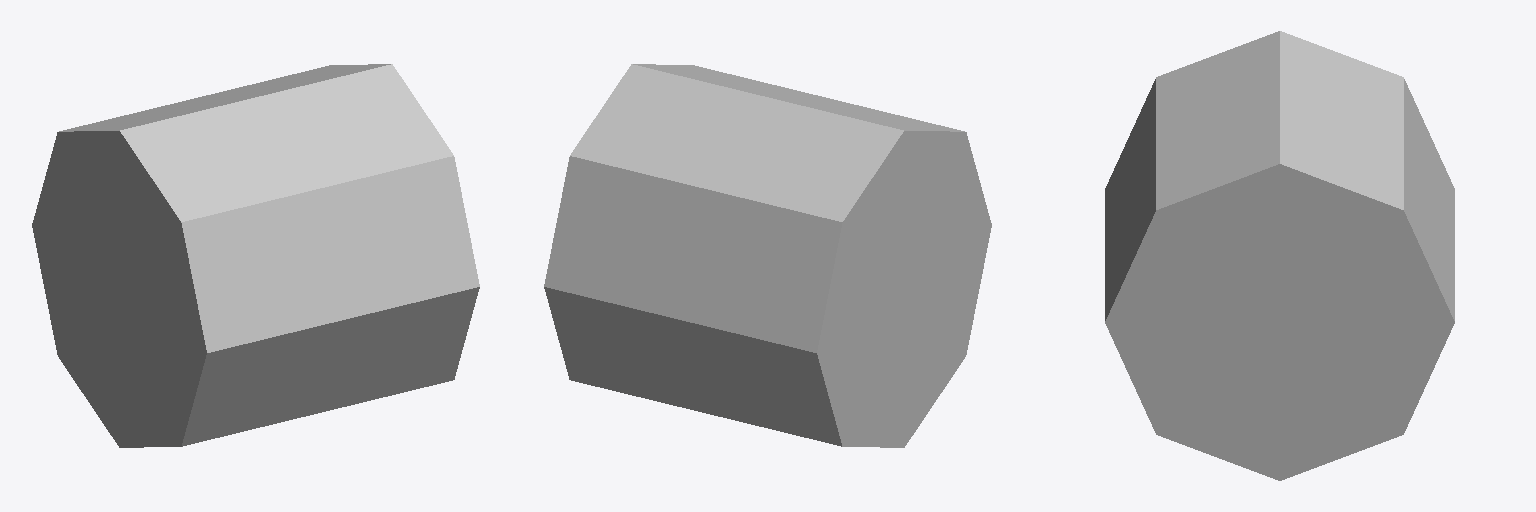
Rendered from CylinderRotatedYTriggerBigger.obj.
3 views of the same model, side by side, from view 1: azimuth 30°, elevation 25°; view 2: azimuth 150°, elevation 25°; view 3: azimuth 270°, elevation 25° (orthographic).
Visible parts, largest first — view 1: CylinderTrigger_Cylinder; view 2: CylinderTrigger_Cylinder; view 3: CylinderTrigger_Cylinder.
Part boxes in pixels (x1,y1,x2,y2): CylinderTrigger_Cylinder: (32, 64, 479, 447); CylinderTrigger_Cylinder: (544, 64, 991, 447); CylinderTrigger_Cylinder: (1105, 31, 1454, 480).
Bounding box in the file's own units: 1.98 × 2.2 × 2.2.